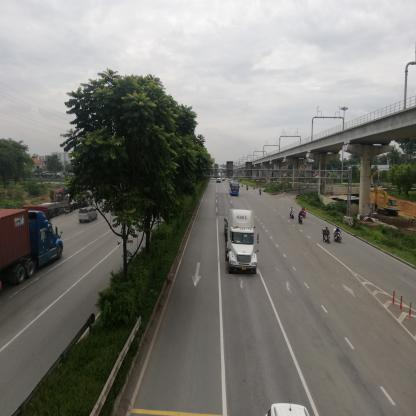bus: (231, 184, 241, 196)
car: (79, 209, 98, 227)
container: (2, 208, 66, 293), (226, 210, 260, 275)
motorbike: (324, 226, 332, 243), (335, 229, 344, 244), (299, 216, 304, 226), (303, 208, 307, 218), (292, 209, 295, 220), (260, 190, 263, 197)
